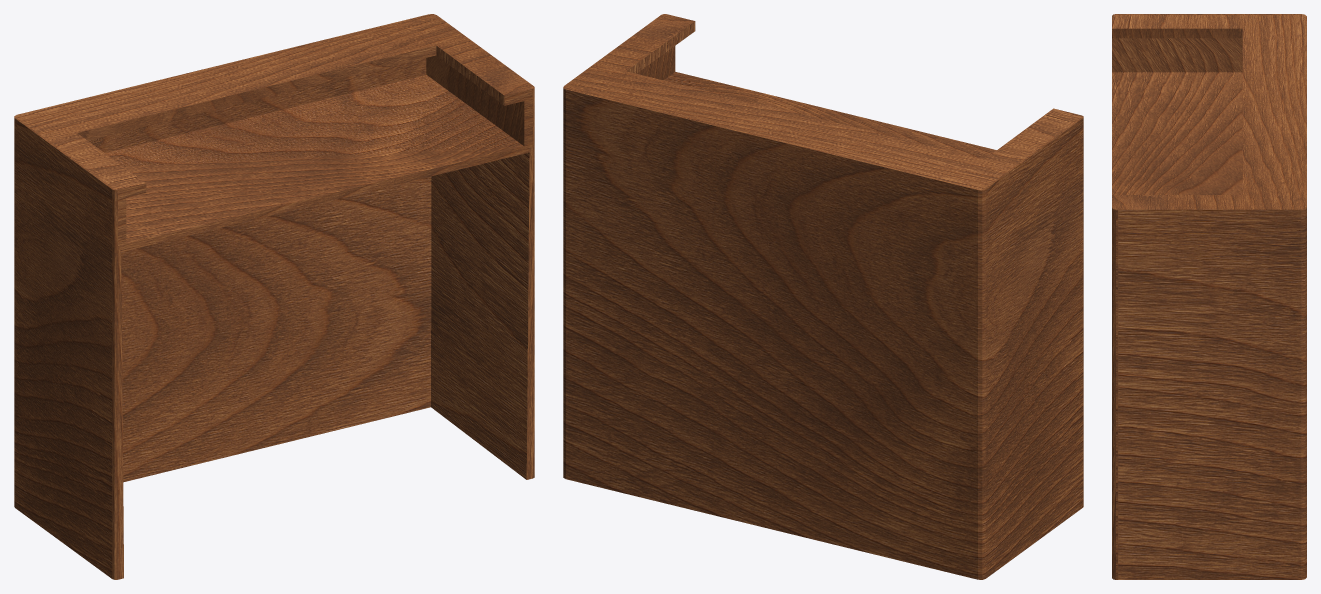
Rendered from WoodenDesk.fbx.
3 views of the same model, side by side, from view 1: azimuth 30°, elevation 25°; view 2: azimuth 150°, elevation 25°; view 3: azimuth 270°, elevation 25° (orthographic). The views are drawn at different scales.
Visible parts, largest first — view 1: WoodenDesk; view 2: WoodenDesk; view 3: WoodenDesk.
Part boxes in pixels (bbox=[...]): WoodenDesk: bbox=[14, 14, 534, 579]; WoodenDesk: bbox=[563, 14, 1083, 579]; WoodenDesk: bbox=[1112, 14, 1306, 579].
Size of the model in its own units: 476 by 419 by 200.
Materials: 1 (1 with a texture image).
